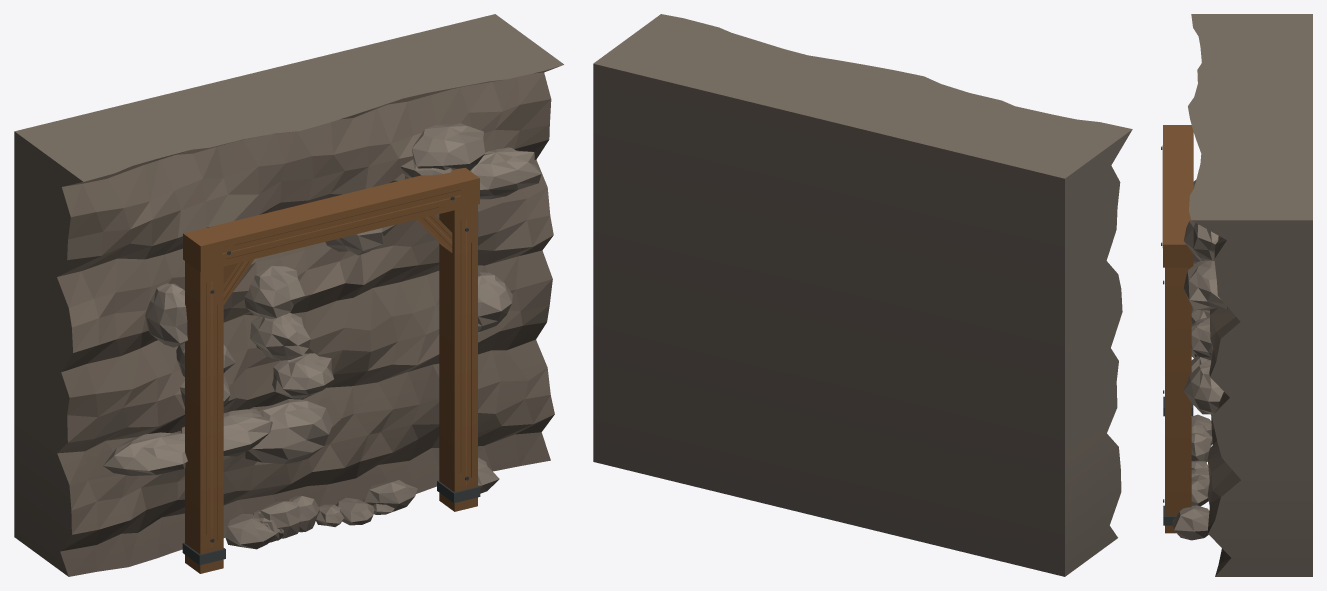
Rendered from mine_wall_c.glb.
3 renders of one model, left to right at view 1: azimuth 30°, elevation 25°; view 2: azimuth 150°, elevation 25°; view 3: azimuth 270°, elevation 25°, orthographic. The views are drawn at different scales.
Visible parts, largest first — view 1: mine_wall_c; view 2: mine_wall_c; view 3: mine_wall_c.
Part boxes in pixels (box(x1,y1,x2,y2)): mine_wall_c: box(14, 14, 563, 576); mine_wall_c: box(593, 14, 1132, 576); mine_wall_c: box(1161, 14, 1312, 576).
Size of the model in its own units: 6.2 by 5 by 1.93.
